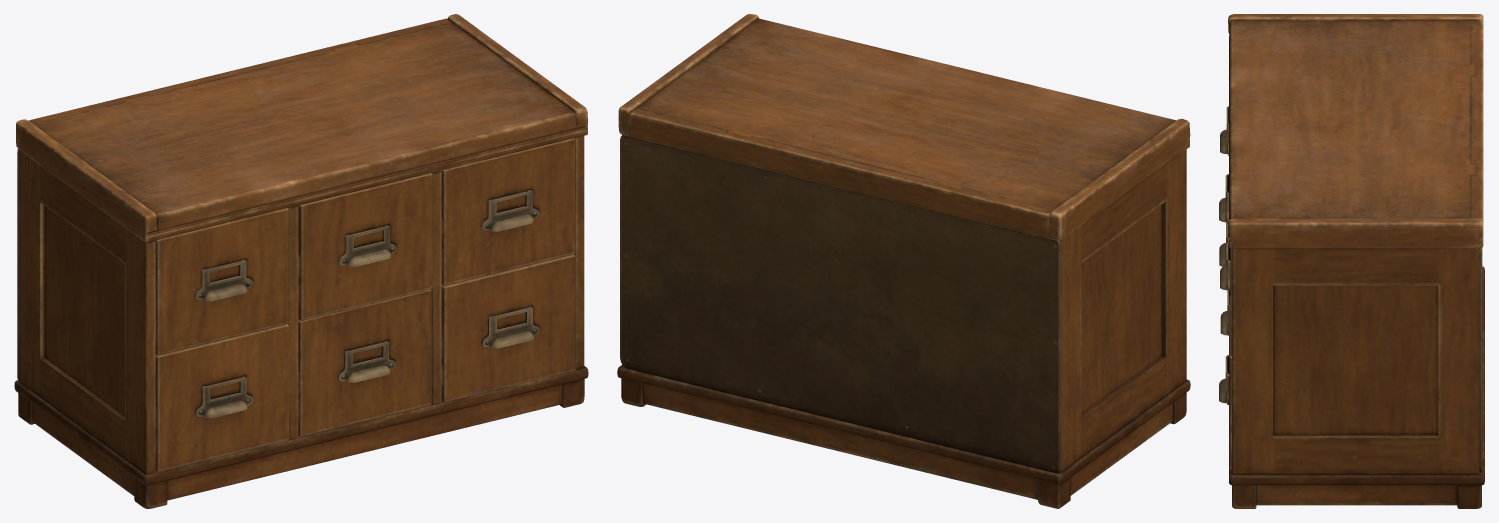
The model's file is Vintage_Cupboard.gltf.
3 views of the same model, side by side, from view 1: azimuth 30°, elevation 25°; view 2: azimuth 150°, elevation 25°; view 3: azimuth 270°, elevation 25° (orthographic). The views are drawn at different scales.
Parts seen in each view (by area): view 1: vintage_wooden_drawer_01_body, vintage_wooden_drawer_01_drawer06, vintage_wooden_drawer_01_drawer02, vintage_wooden_drawer_01_drawer04, vintage_wooden_drawer_01_drawer03, vintage_wooden_drawer_01_drawer01, vintage_wooden_drawer_01_drawer05; view 2: vintage_wooden_drawer_01_body; view 3: vintage_wooden_drawer_01_body, vintage_wooden_drawer_01_drawer06, vintage_wooden_drawer_01_drawer03, vintage_wooden_drawer_01_drawer02.
Part boxes in pixels (x1,y1,x2,y2): vintage_wooden_drawer_01_body: (14, 14, 588, 508); vintage_wooden_drawer_01_drawer06: (441, 254, 575, 402); vintage_wooden_drawer_01_drawer02: (298, 173, 432, 320); vintage_wooden_drawer_01_drawer04: (155, 324, 288, 472); vintage_wooden_drawer_01_drawer03: (441, 138, 574, 285); vintage_wooden_drawer_01_drawer01: (155, 208, 288, 355); vintage_wooden_drawer_01_drawer05: (298, 289, 431, 436); vintage_wooden_drawer_01_body: (617, 14, 1190, 508); vintage_wooden_drawer_01_body: (1228, 14, 1484, 508); vintage_wooden_drawer_01_drawer06: (1219, 295, 1231, 469); vintage_wooden_drawer_01_drawer03: (1220, 242, 1477, 355); vintage_wooden_drawer_01_drawer02: (1219, 174, 1228, 223).
Size of the model in its own units: 0.8576 by 0.5454 by 0.4574.
1 material, 1 textured.
